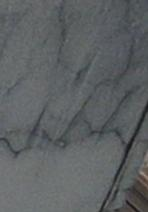termicas: (1, 88, 130, 165), (45, 6, 90, 86), (118, 19, 141, 88)
